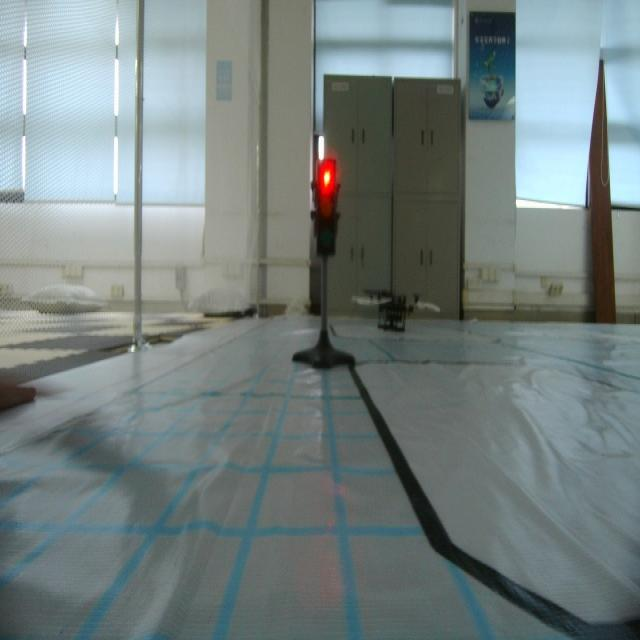red: (308, 153, 342, 263)
